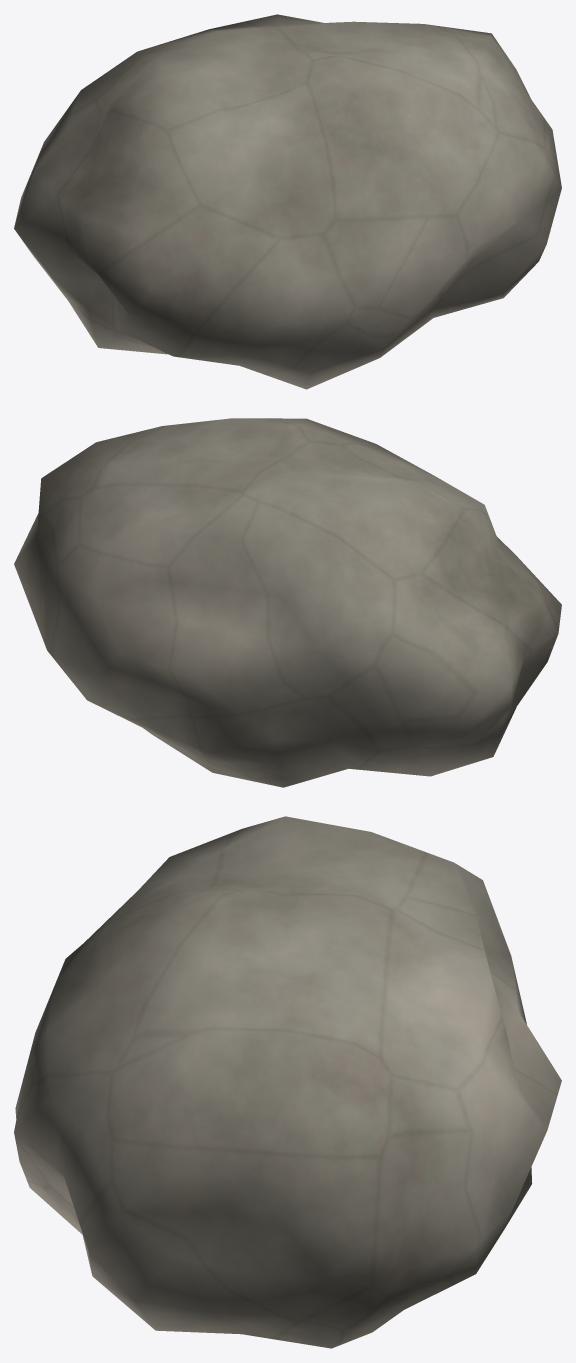
The model's file is obj_rock.glb.
3 views of the same model, one above another, from view 1: azimuth 30°, elevation 25°; view 2: azimuth 150°, elevation 25°; view 3: azimuth 270°, elevation 25° (orthographic). The views are drawn at different scales.
Visible parts, largest first — view 1: rock_body; view 2: rock_body; view 3: rock_body.
Boxes of the visible parts, x1,y1,x2,y2 form: rock_body: [14, 14, 561, 389]; rock_body: [14, 418, 561, 787]; rock_body: [14, 816, 561, 1348].
Bounding box in the file's own units: 1.09 × 0.6628 × 0.7898.
1 material, 1 textured.
